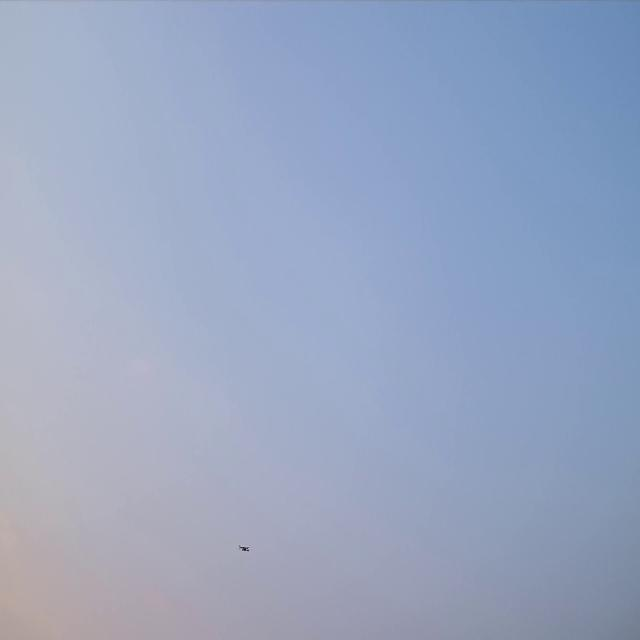UAV: (240, 546, 248, 551)
